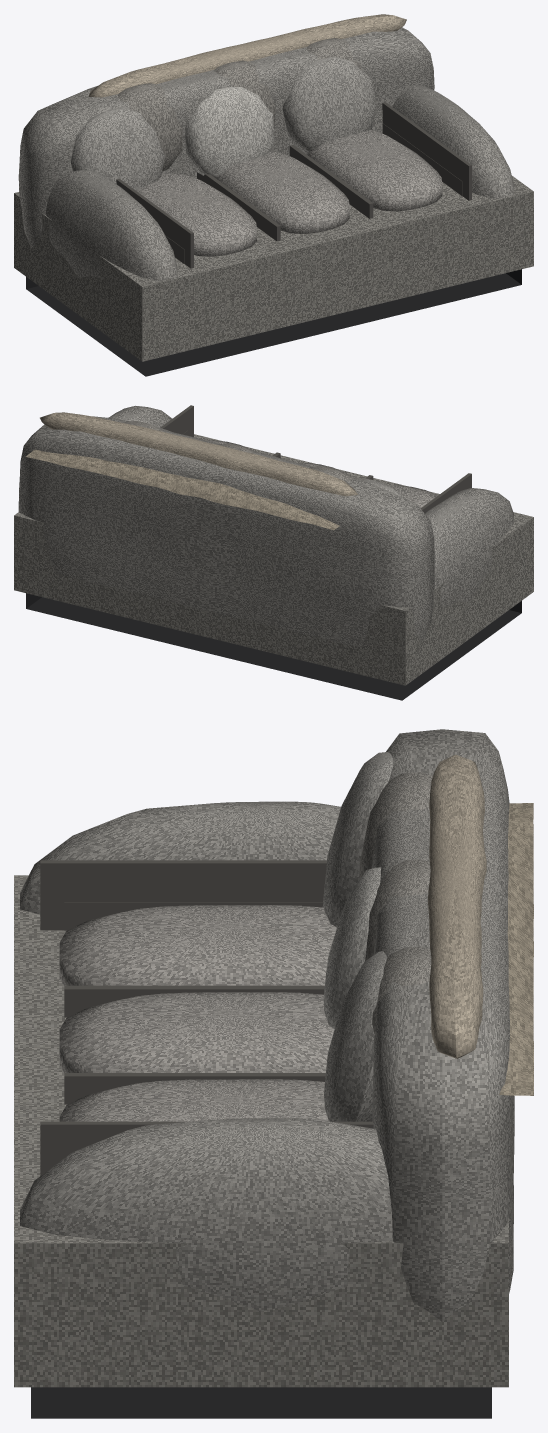
Rendered from sofa_e5.glb.
3 renders of one model, top to bottom at view 1: azimuth 30°, elevation 25°; view 2: azimuth 150°, elevation 25°; view 3: azimuth 270°, elevation 25°, orthographic. The views are drawn at different scales.
Parts seen in each view (by area): view 1: root; view 2: root; view 3: root.
Part boxes in pixels (x1,y1,x2,y2): root: [14, 14, 533, 376]; root: [14, 405, 533, 700]; root: [14, 729, 533, 1418].
Bounding box in the file's own units: 1.9 × 0.9126 × 1.12.
Materials: 10 (8 with a texture image).
